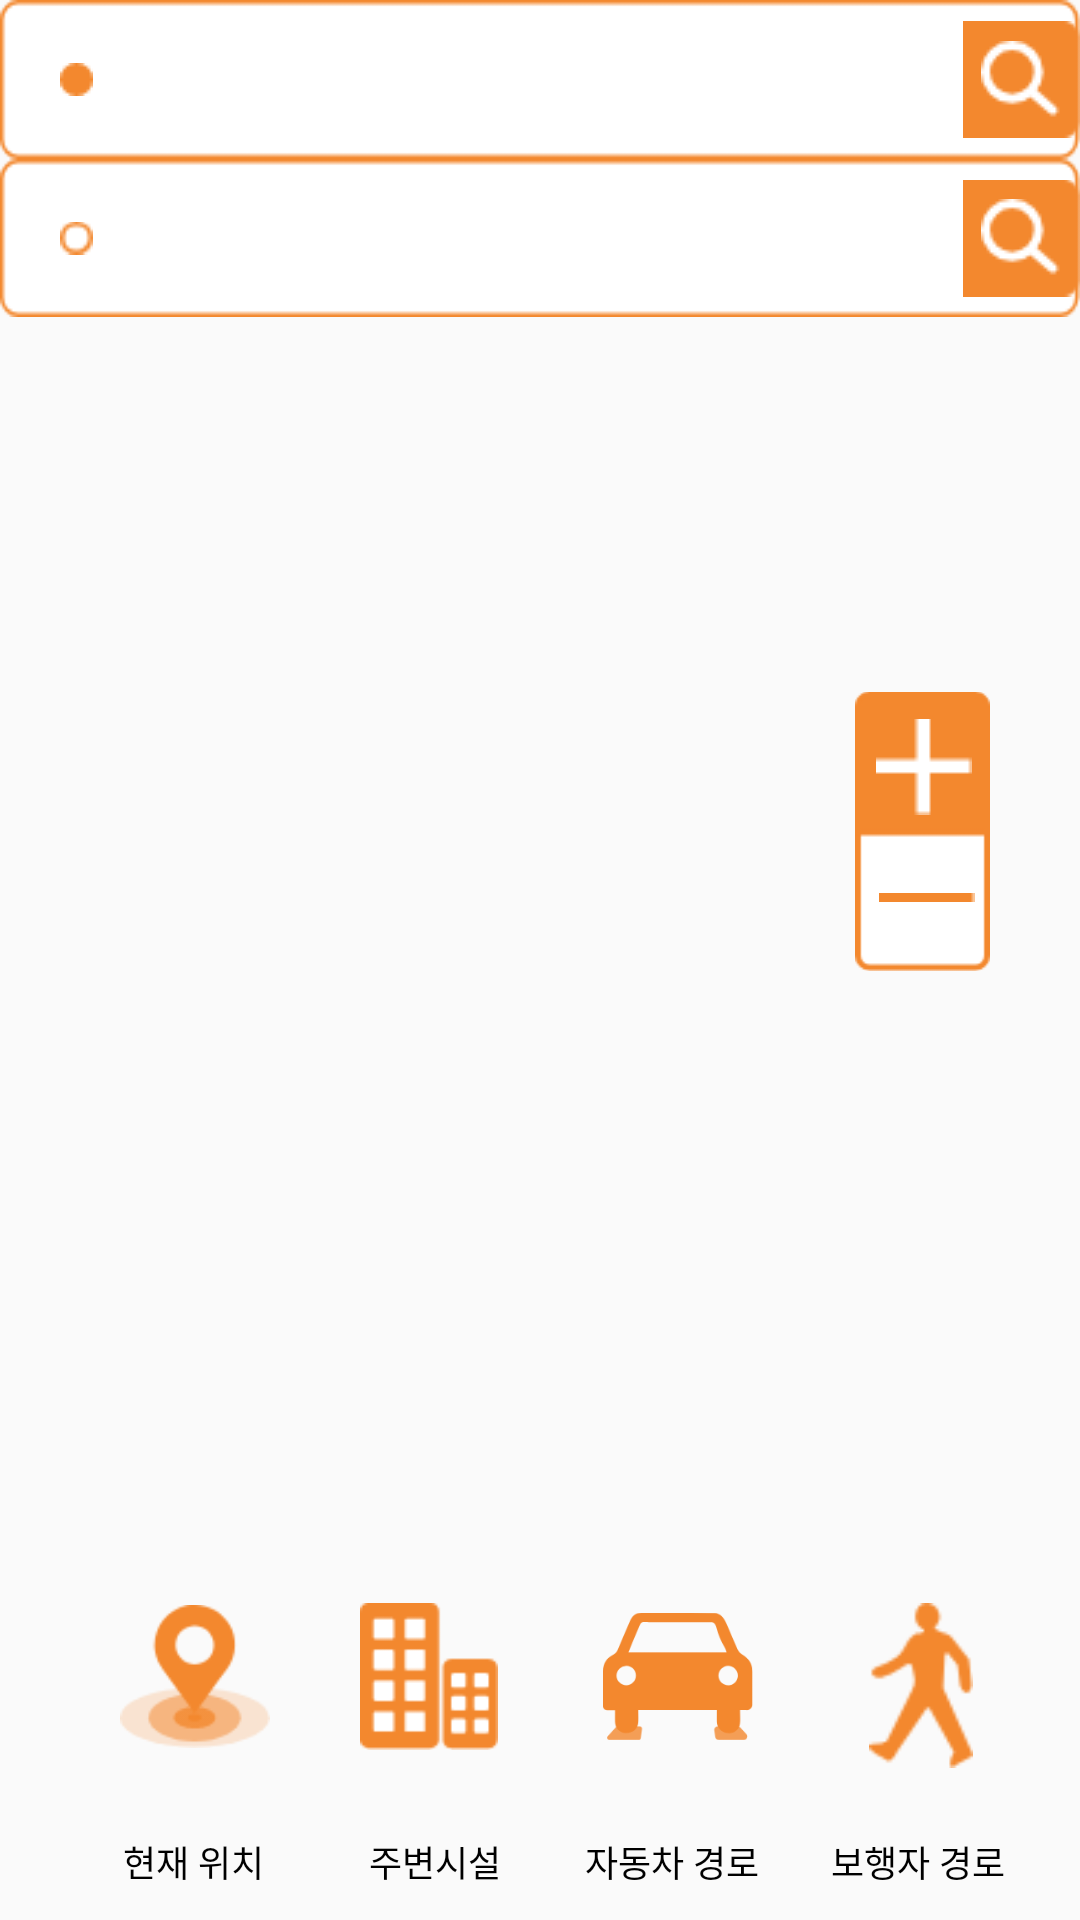

Named icons in this screenshot (1080×1920) and their centers, (x=x, y=y):
around: (x=429, y=1676)
car: (x=678, y=1676)
current: (x=195, y=1676)
search: (x=1021, y=79), (x=1021, y=238)
